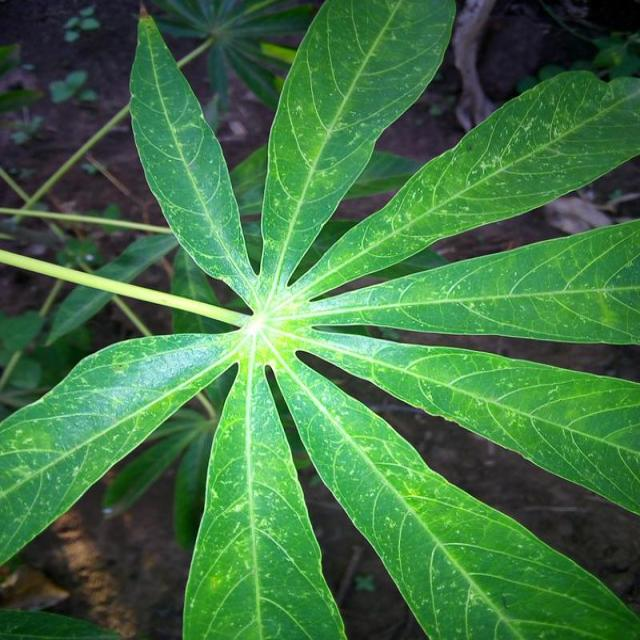cassava leaf: (0, 1, 638, 638), (257, 0, 456, 293), (128, 11, 258, 307)
